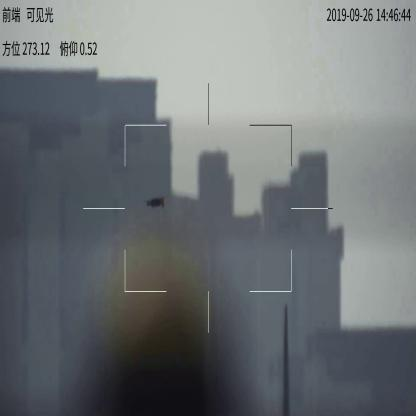uav: (141, 195, 170, 212)
